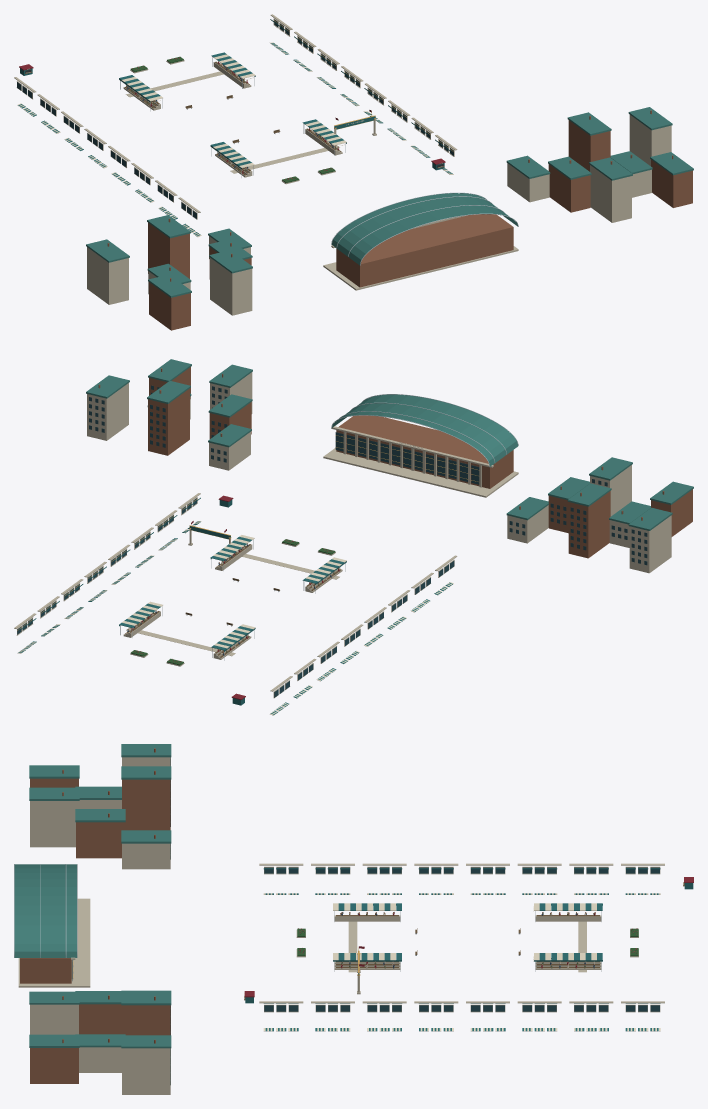
The model's file is stadium-props.glb.
The picture shows the model from 3 angles, top to bottom: view 1: azimuth 30°, elevation 25°; view 2: azimuth 150°, elevation 25°; view 3: azimuth 270°, elevation 25°; orthographic projection. The views are drawn at different scales.
Parts seen in each view (by area): view 1: Stadium props / Background terracotta, Stadium props / Tribune limestone, Stadium props / Station weathered copper, Stadium props / Striped canopy cloth, Stadium props / Ivory enamel, Stadium props / Shop blue glass, Stadium props / Polished steel, Stadium props / Oiled stadium wood; view 2: Stadium props / Tribune limestone, Stadium props / Station weathered copper, Stadium props / Background terracotta, Stadium props / Shop blue glass, Stadium props / Striped canopy cloth, Stadium props / Ivory enamel, Stadium props / Polished steel, Stadium props / Brushed champagne brass; view 3: Stadium props / Tribune limestone, Stadium props / Station weathered copper, Stadium props / Background terracotta, Stadium props / Shop blue glass, Stadium props / Striped canopy cloth, Stadium props / Ivory enamel, Stadium props / Oiled stadium wood, Stadium props / Polished steel.
Part boxes in pixels (x1,y1,x2,y2): Stadium props / Background terracotta: [107, 110, 692, 330]; Stadium props / Tribune limestone: [14, 14, 671, 315]; Stadium props / Station weathered copper: [86, 107, 693, 297]; Stadium props / Striped canopy cloth: [18, 19, 452, 236]; Stadium props / Ivory enamel: [17, 42, 453, 236]; Stadium props / Shop blue glass: [17, 19, 453, 218]; Stadium props / Polished steel: [120, 57, 518, 265]; Stadium props / Oiled stadium wood: [25, 61, 444, 175]; Stadium props / Tribune limestone: [14, 372, 671, 698]; Stadium props / Station weathered copper: [86, 359, 693, 530]; Stadium props / Background terracotta: [98, 367, 692, 558]; Stadium props / Shop blue glass: [17, 385, 647, 697]; Stadium props / Striped canopy cloth: [18, 497, 452, 714]; Stadium props / Ivory enamel: [17, 442, 453, 715]; Stadium props / Polished steel: [120, 394, 518, 660]; Stadium props / Brushed champagne brass: [17, 435, 478, 630]; Stadium props / Tribune limestone: [18, 757, 664, 1094]; Stadium props / Station weathered copper: [14, 744, 171, 1048]; Stadium props / Background terracotta: [20, 748, 170, 1083]; Stadium props / Shop blue glass: [72, 757, 659, 1084]; Stadium props / Striped canopy cloth: [245, 868, 693, 1031]; Stadium props / Ivory enamel: [244, 882, 683, 1031]; Stadium props / Oiled stadium wood: [244, 882, 684, 1000]; Stadium props / Polished steel: [14, 864, 601, 971].
Size of the model in its own units: 249 by 31.12 by 237.
